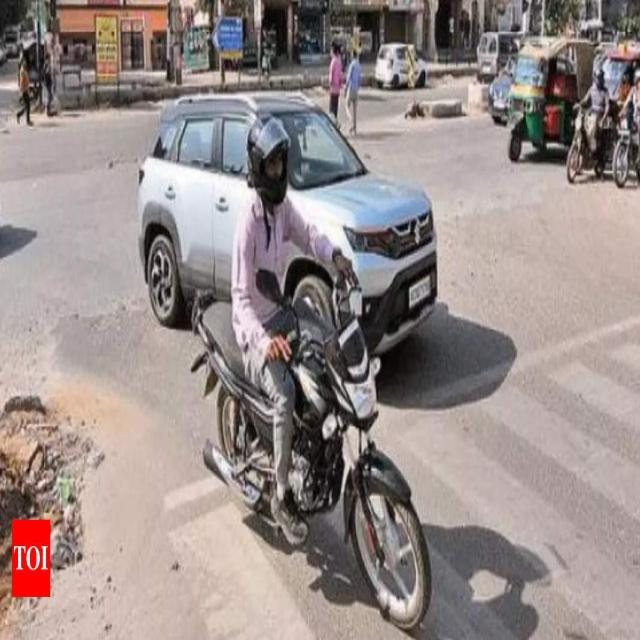autorickshaw: (509, 37, 595, 160)
car: (136, 92, 438, 352), (375, 44, 409, 88)
motorcycle: (194, 120, 429, 627)
